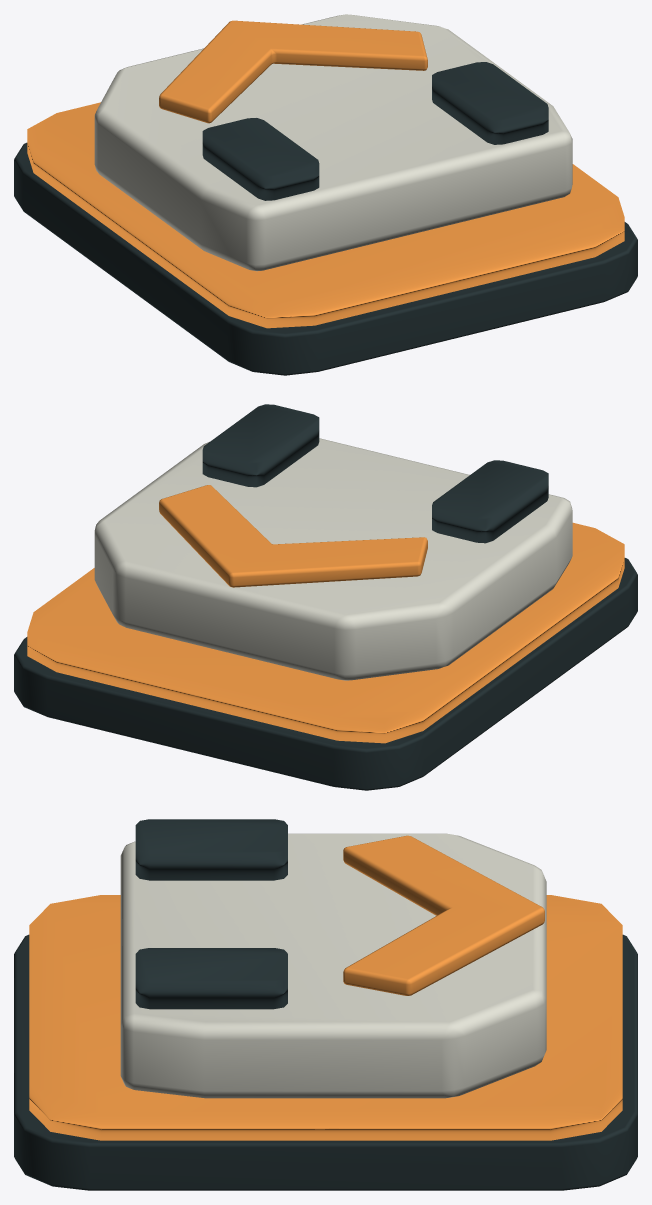
The model's file is module-mech.glb.
3 views of the same model, one above another, from view 1: azimuth 30°, elevation 25°; view 2: azimuth 150°, elevation 25°; view 3: azimuth 270°, elevation 25° (orthographic). The views are drawn at different scales.
Parts seen in each view (by area): view 1: Module_mech_Factory_Ceramic, Module_mech_Team, Module_mech_Factory_Mechanical; view 2: Module_mech_Factory_Ceramic, Module_mech_Team, Module_mech_Factory_Mechanical; view 3: Module_mech_Team, Module_mech_Factory_Ceramic, Module_mech_Factory_Mechanical.
Boxes of the visible parts, x1,y1,x2,y2 form: Module_mech_Factory_Ceramic: (94, 14, 572, 271); Module_mech_Team: (27, 20, 624, 328); Module_mech_Factory_Mechanical: (14, 62, 637, 375); Module_mech_Factory_Ceramic: (94, 438, 572, 680); Module_mech_Team: (27, 485, 624, 743); Module_mech_Factory_Mechanical: (14, 404, 637, 790); Module_mech_Team: (29, 835, 622, 1140); Module_mech_Factory_Ceramic: (120, 833, 546, 1098); Module_mech_Factory_Mechanical: (14, 819, 637, 1190).
Bounding box in the file's own units: 0.7 × 0.26 × 0.82.
